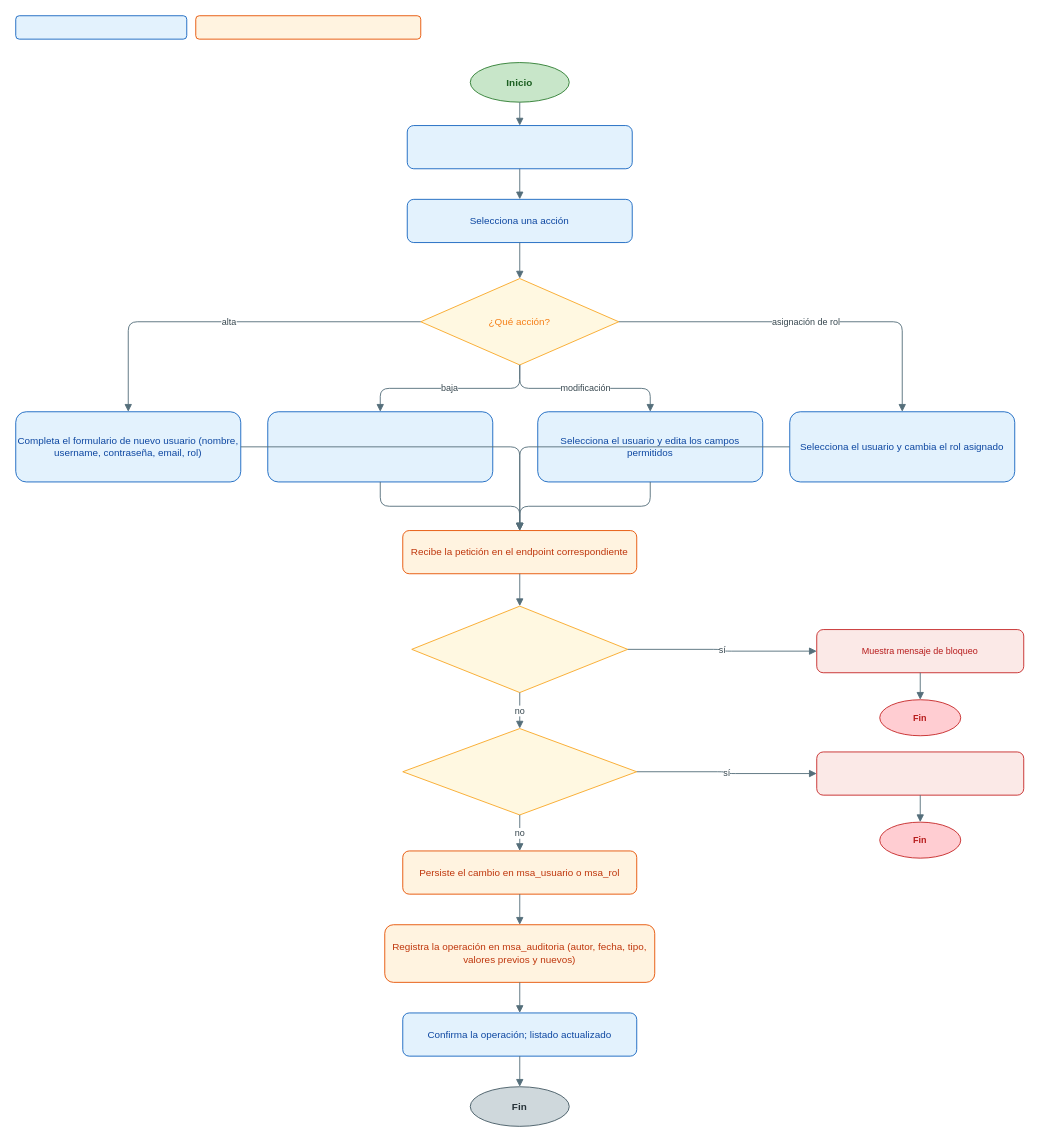
Image size: 1040x1142. Some labels were removed from this diagram. Here are the shapes that lost their labels. From the top down, the centre of each, then its label:
At (101,27): "A4 · Administrador".
At (308,27): "Sistema (ms-administracion)".
At (519,147): "Accede al módulo «Administración»".
At (380,446): "Selecciona el usuario y confirma la baja lógica".
At (519,649): "¿A4 modifica su propio rol?".
At (519,771): "¿Username duplicado o rol inexistente?".
At (920,773): "Muestra mensaje de error".
